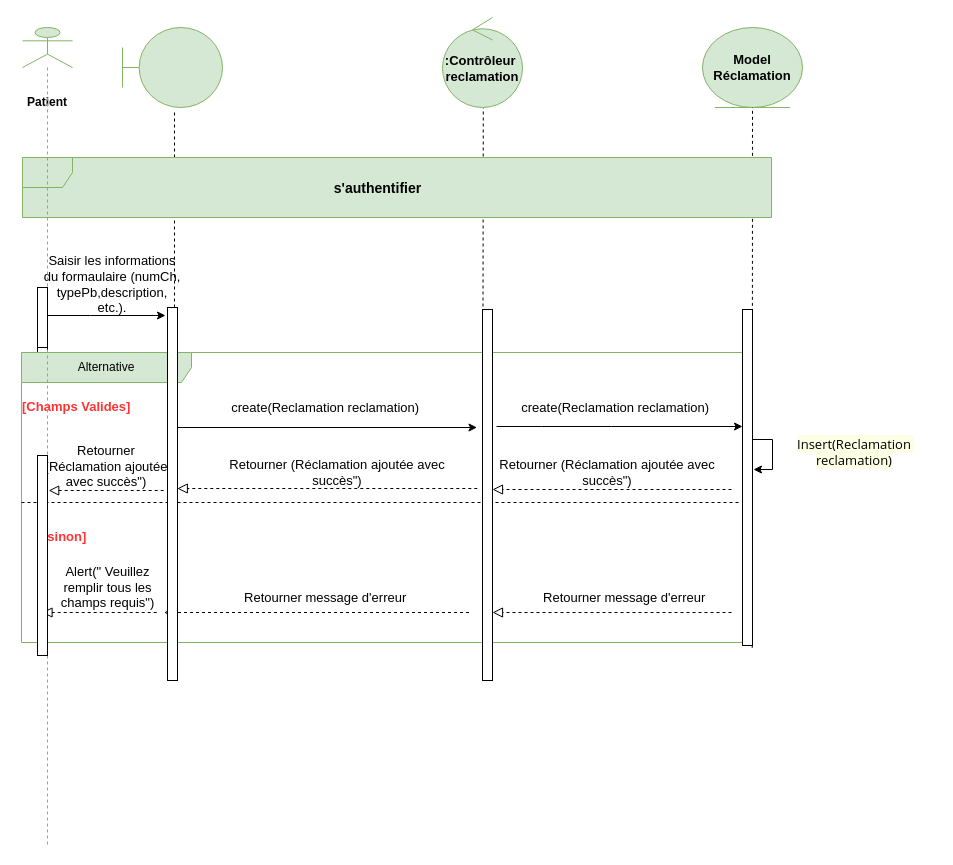
This 953x865 diagram has some shape labels left out. Here are the shapes that lost their labels. From the top down, the centre of each, then its label:
the point at 172,67: :Interface Réclamation
the point at 397,187: Ref
